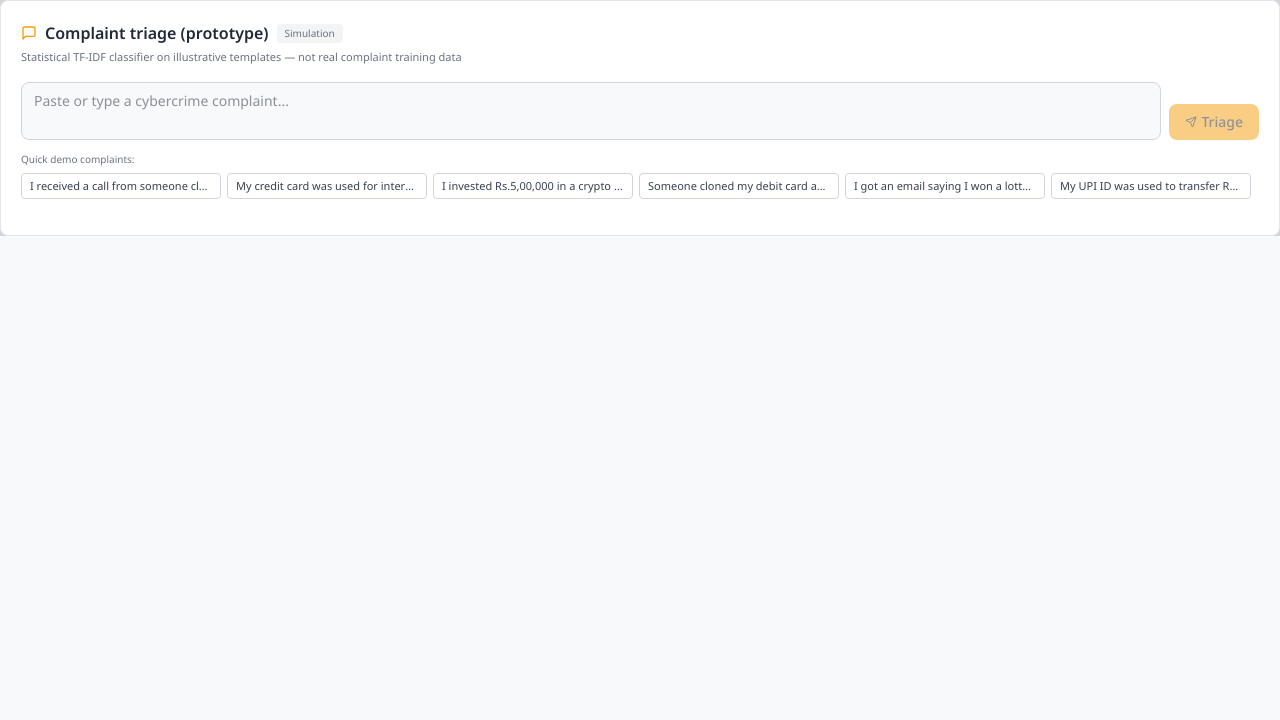
Scenario: NlpComplaintTriage › displays keyword match score instead of confidence
In the text box with placeholder "Paste or type a cybercrime complaint...": (591, 110) [21, 82, 1161, 140], type "UPI fraud Rs.35000"
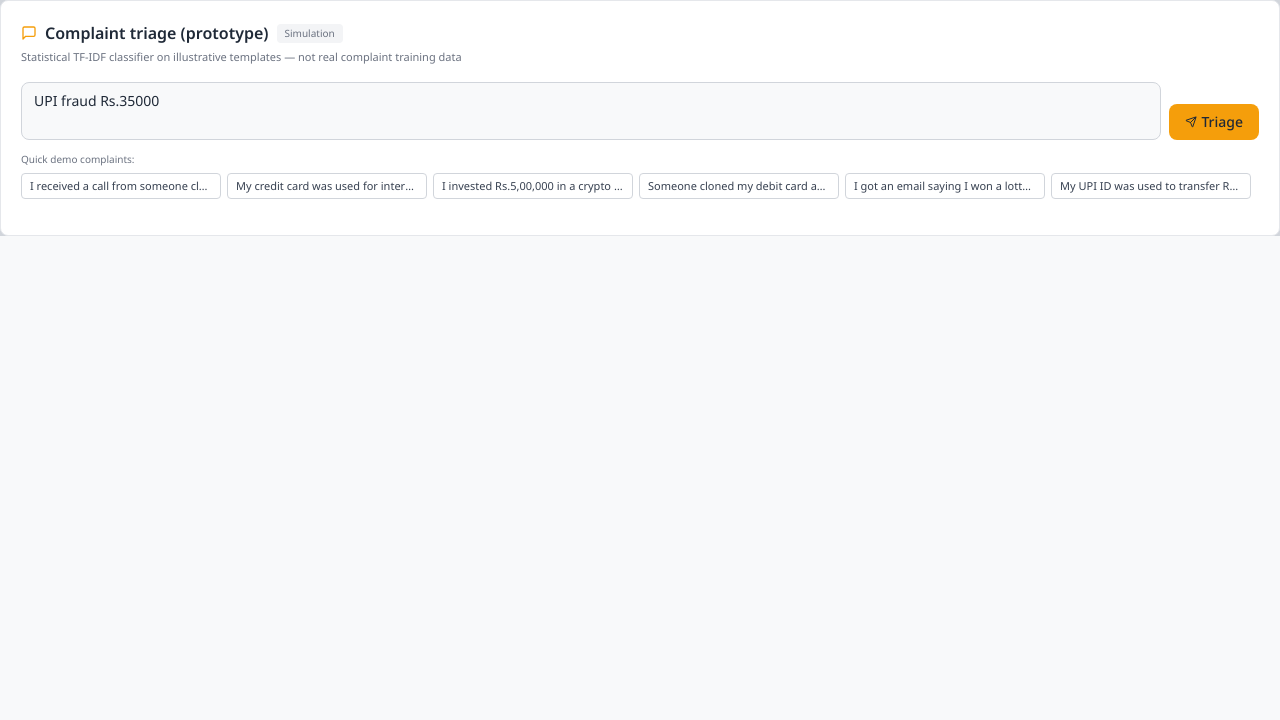
Click the button "Triage": (1214, 122) [1169, 104, 1259, 140]
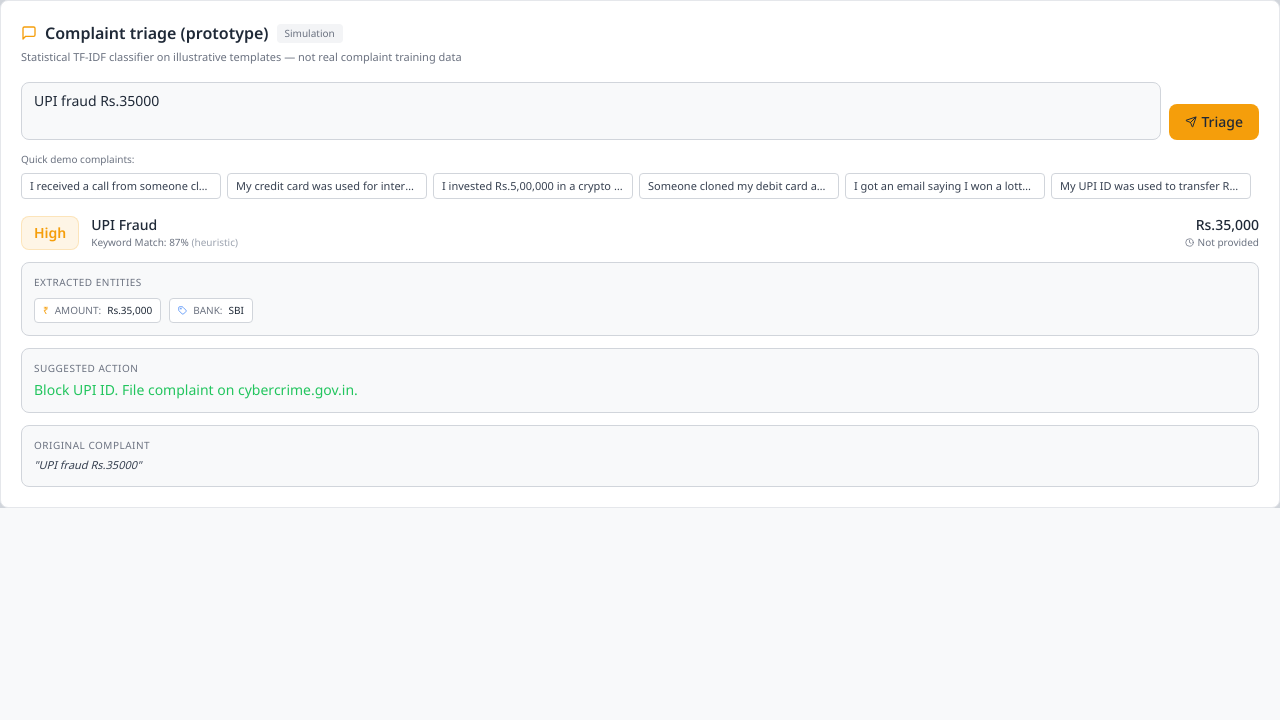
Result: the text "Keyword Match: 87% (heuristic)" is shown at [91, 235, 238, 249]
